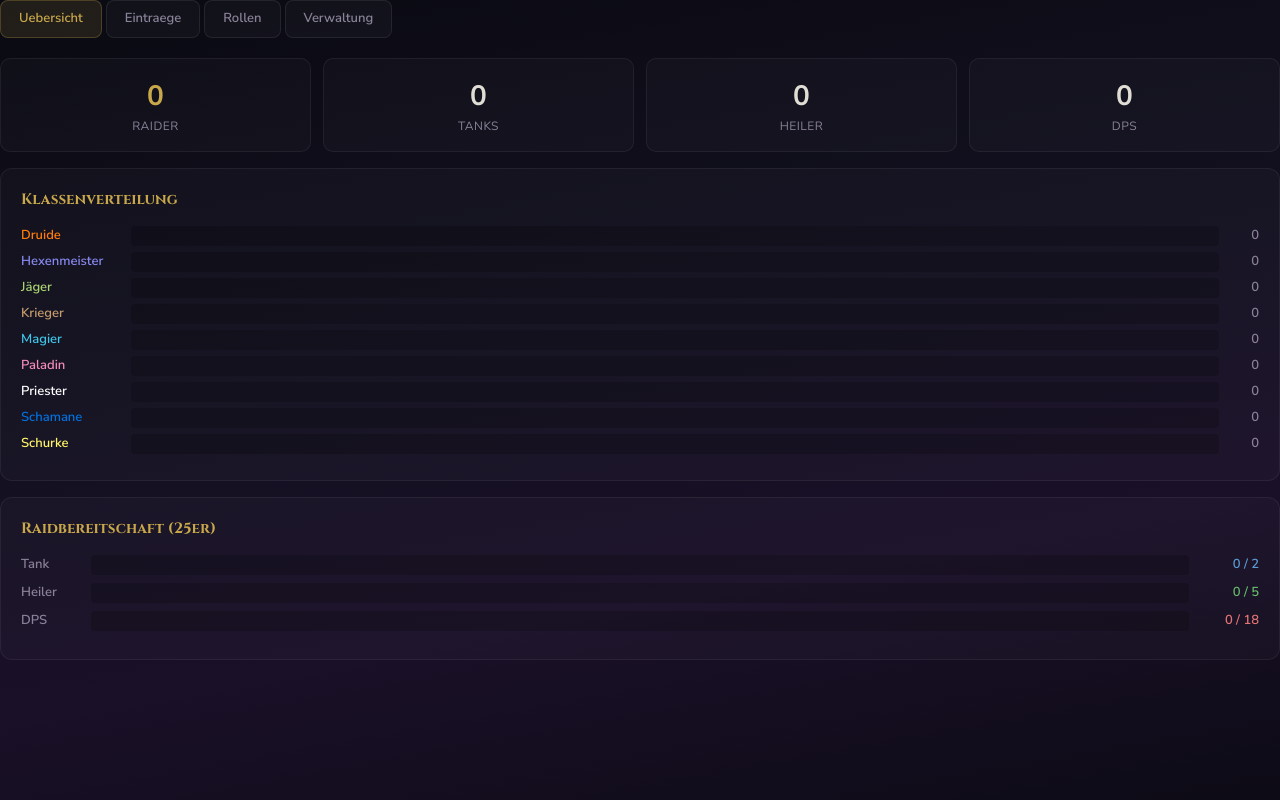
Test: AdminView › switches to manage tab
The image size is (1280, 800).
Click the button with class "adm-tab" showing "Verwaltung".
click(338, 19)  # box [285,0,392,38]
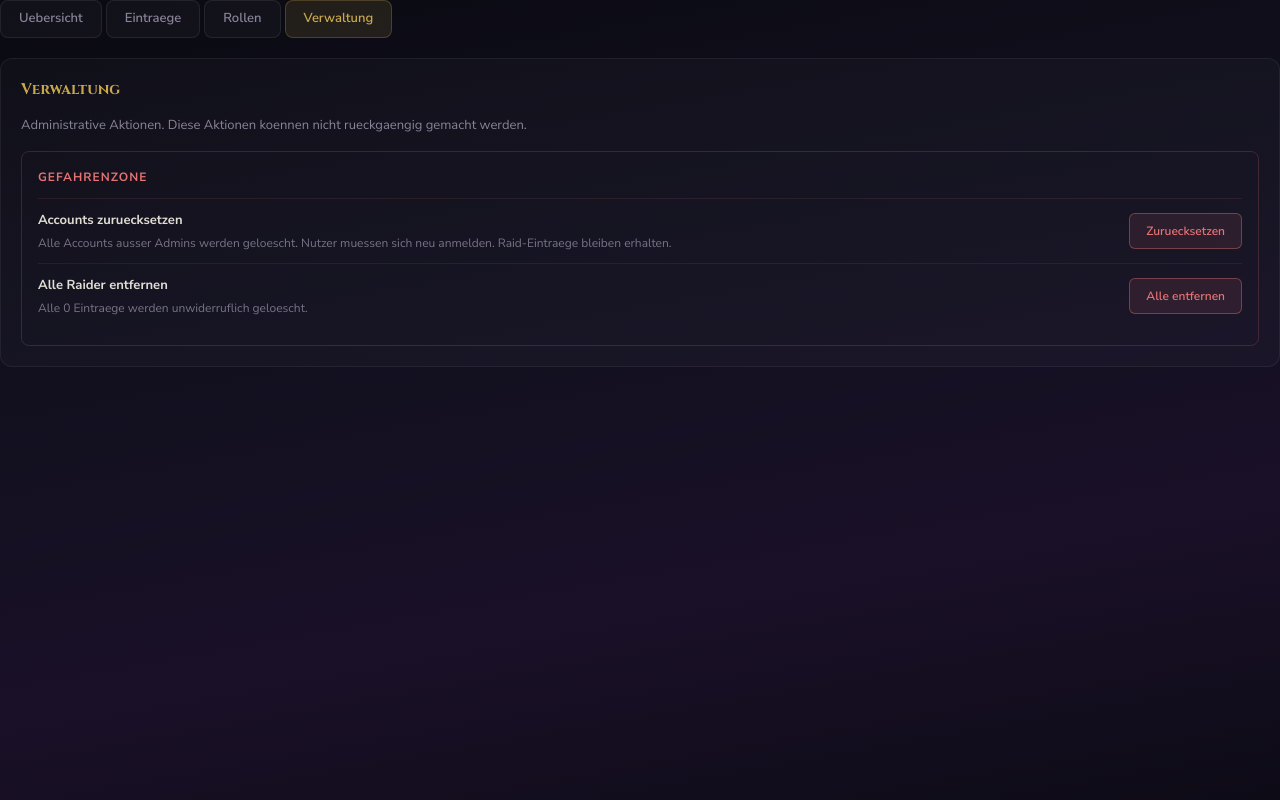
Expected: the text "Gefahrenzone" is shown, [38,169,147,185]
